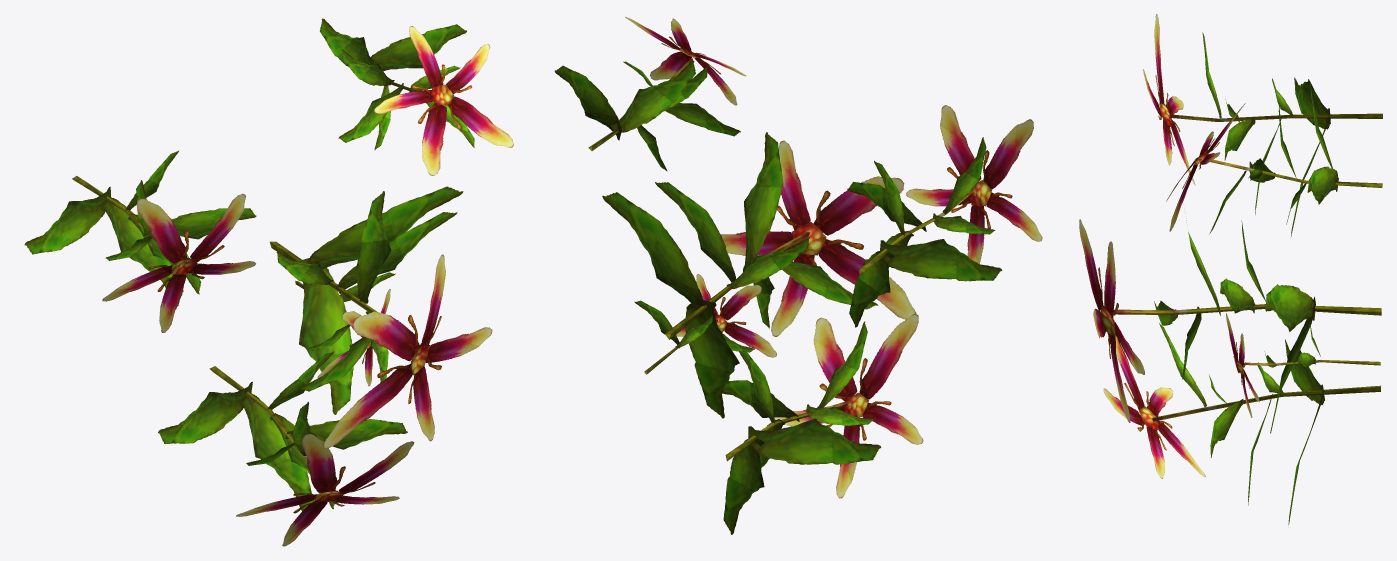
The model's file is huodong_fuben_188_xiaozhiwu_03_a.obj.
3 renders of one model, left to right at view 1: azimuth 30°, elevation 25°; view 2: azimuth 150°, elevation 25°; view 3: azimuth 270°, elevation 25°, orthographic. The views are drawn at different scales.
Visible parts, largest first — view 1: xinshoucun_hua_07; view 2: xinshoucun_hua_07; view 3: xinshoucun_hua_07.
Boxes of the visible parts, x1=… form: xinshoucun_hua_07: x1=24, y1=18, x2=513, y2=546; xinshoucun_hua_07: x1=554, y1=17, x2=1042, y2=534; xinshoucun_hua_07: x1=1079, y1=14, x2=1382, y2=525.
Bounding box in the file's own units: 56.33 × 58.44 × 33.7.
Materials: 1 (1 with a texture image).
